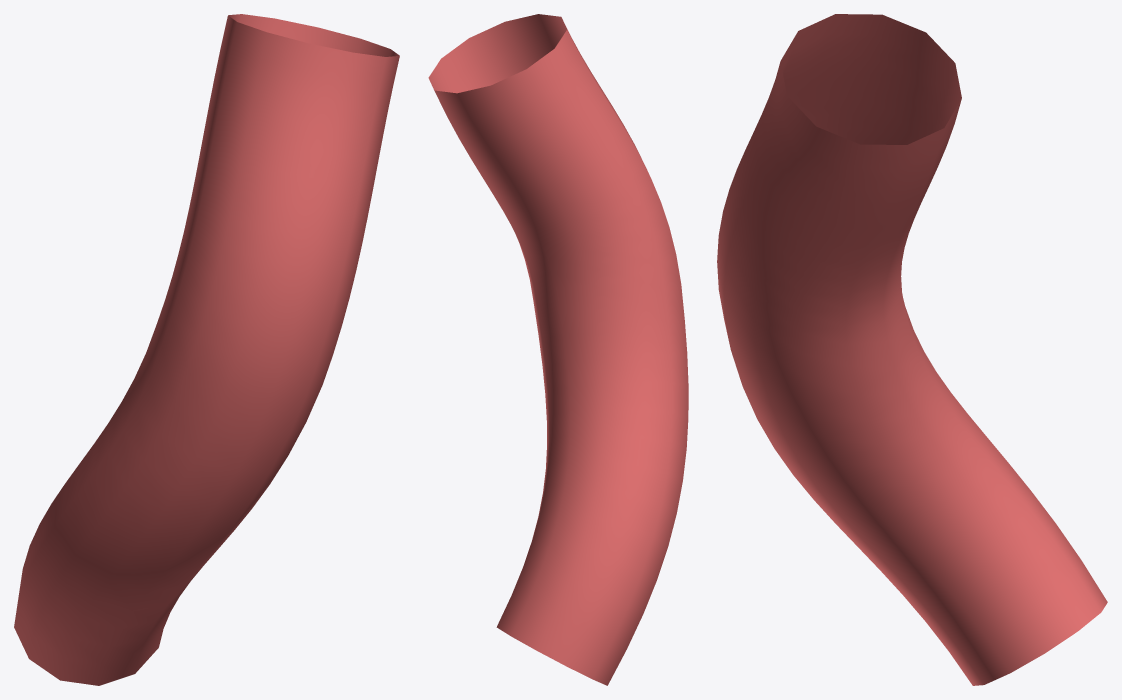
File: Internal_iliac_artery.l_BezierCurve.275.glb
The picture shows the model from 3 angles, left to right: view 1: azimuth 30°, elevation 25°; view 2: azimuth 150°, elevation 25°; view 3: azimuth 270°, elevation 25°; orthographic projection. The views are drawn at different scales.
Visible parts, largest first — view 1: Internal_iliac_artery.l_BezierCurve.275; view 2: Internal_iliac_artery.l_BezierCurve.275; view 3: Internal_iliac_artery.l_BezierCurve.275.
Part boxes in pixels (x1,y1,x2,y2): Internal_iliac_artery.l_BezierCurve.275: (14,14,399,685); Internal_iliac_artery.l_BezierCurve.275: (428,14,688,685); Internal_iliac_artery.l_BezierCurve.275: (717,14,1107,685).
Bounding box in the file's own units: 0.0136 × 0.0297 × 0.0148.
